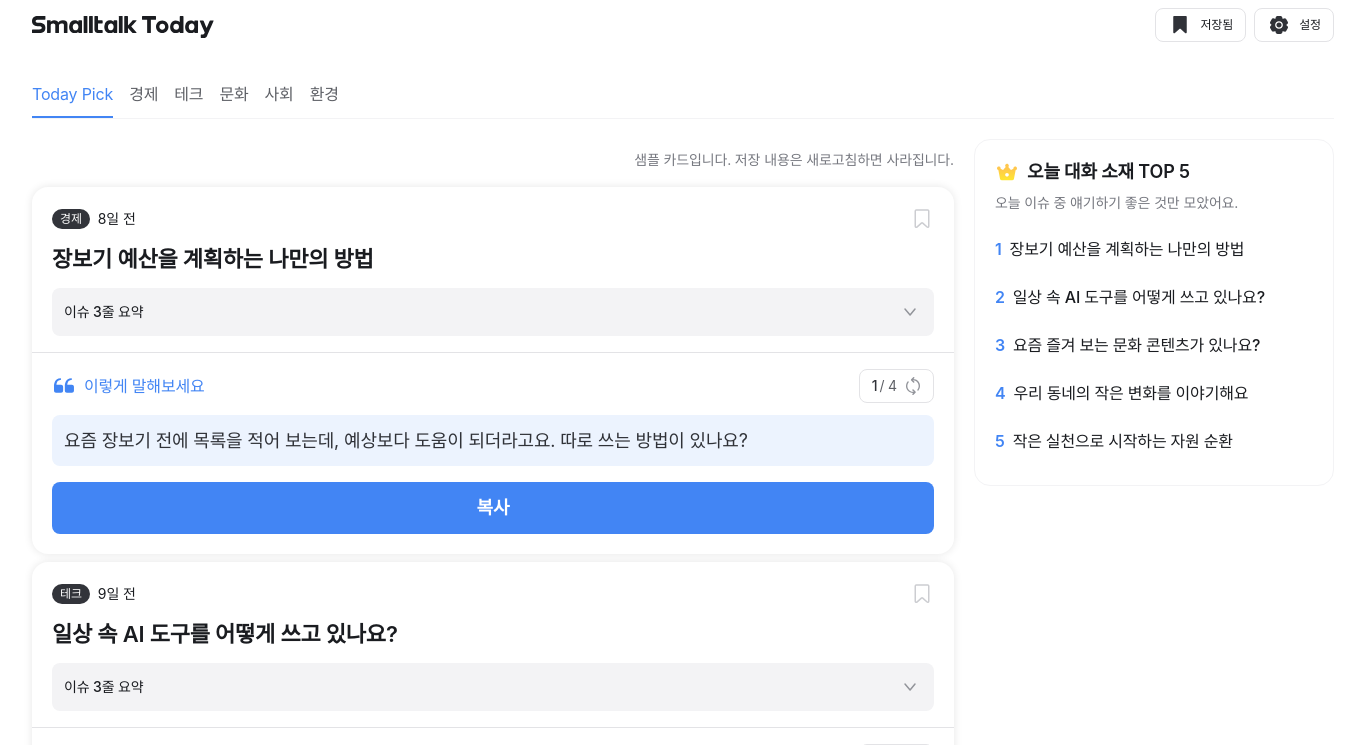
card screen integration › copies the shown sentence and reports a refused clipboard request
Click the button "복사": (493, 508) [52, 482, 934, 534]
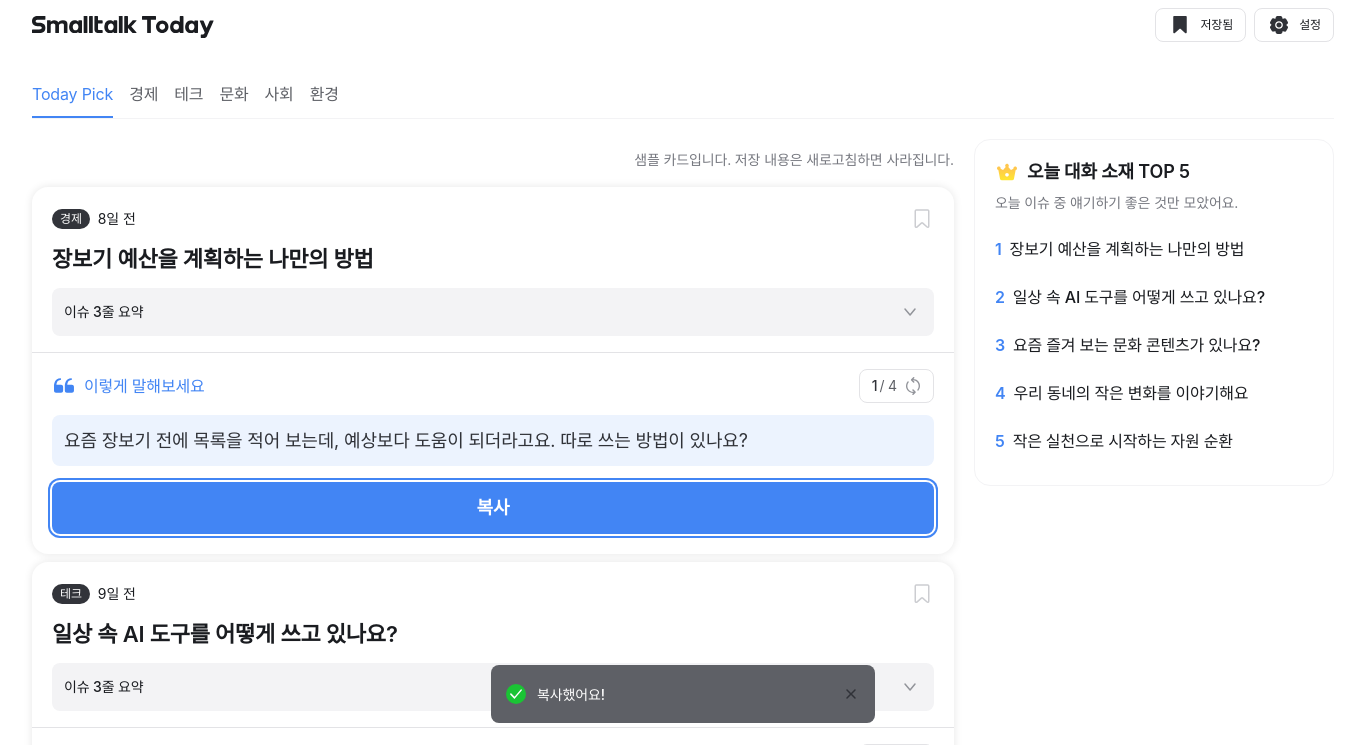
Expected: the text "복사했어요!" is shown, [537, 686, 605, 702]
Click the button "복사": (493, 508) [52, 482, 934, 534]
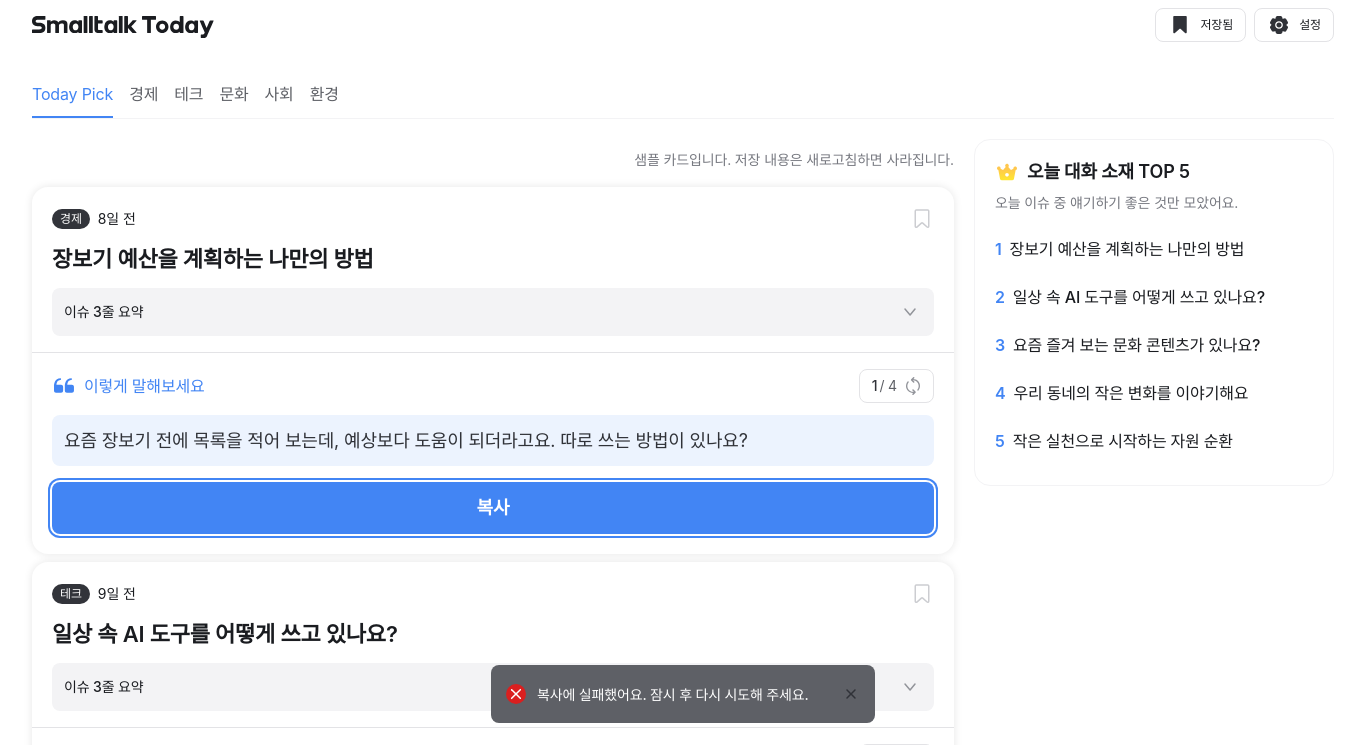
Expected: the text "복사에 실패했어요. 잠시 후 다시 시도해 주세요." is shown, [537, 684, 831, 704]
